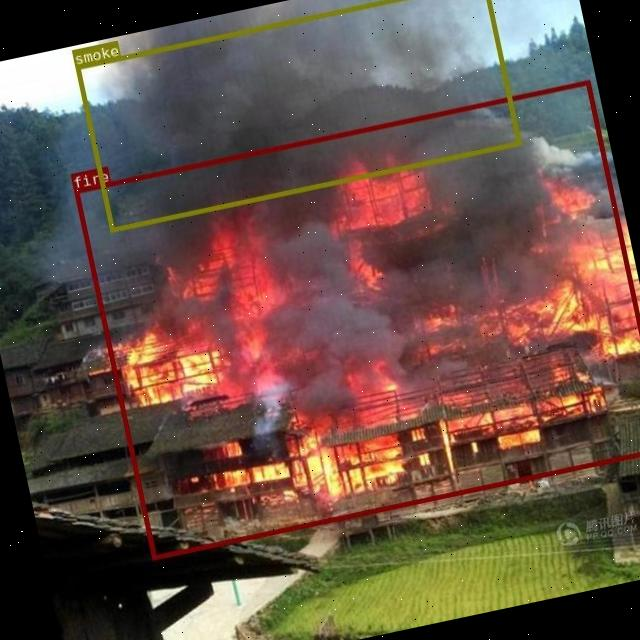fire: (72, 79, 640, 558)
smoke: (74, 0, 520, 231)
